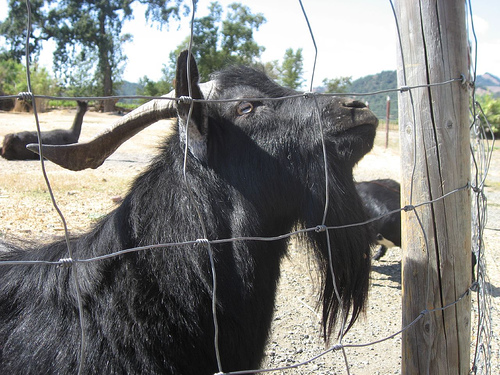goat: (1, 51, 380, 375)
